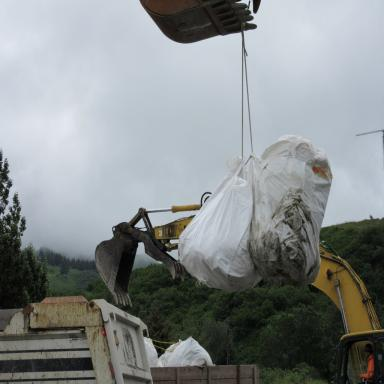plasticbag: (246, 132, 336, 284), (178, 156, 264, 292), (156, 334, 214, 368), (142, 336, 162, 368)
